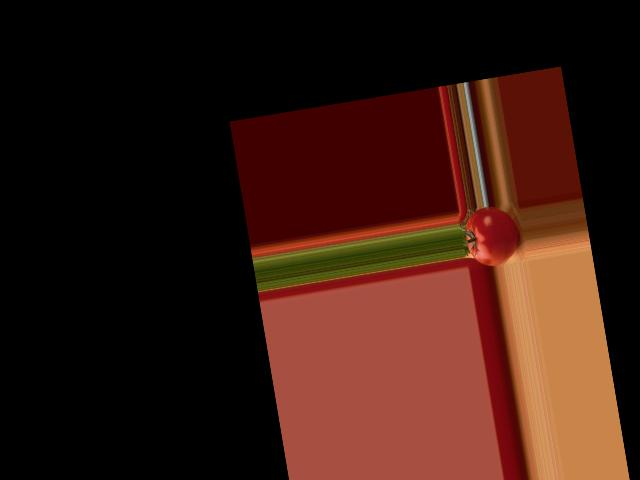tomato: (462, 203, 522, 269)
